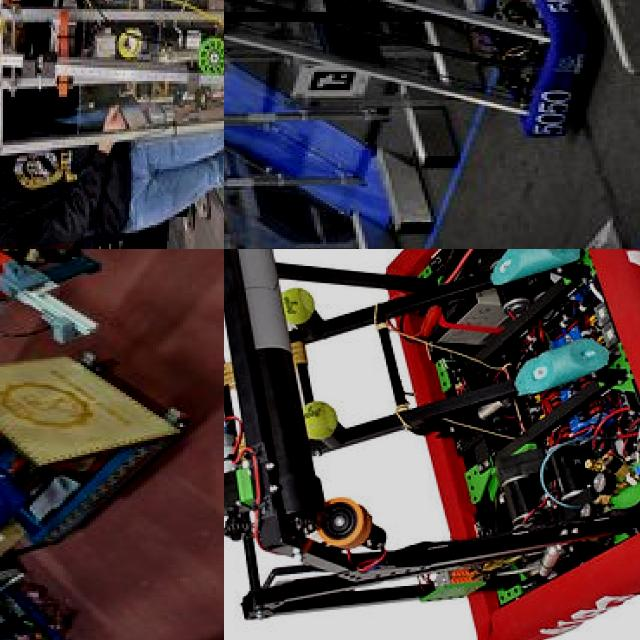FRC-Robots: (224, 249, 640, 640), (224, 0, 615, 181), (0, 0, 224, 249), (0, 249, 114, 639)
